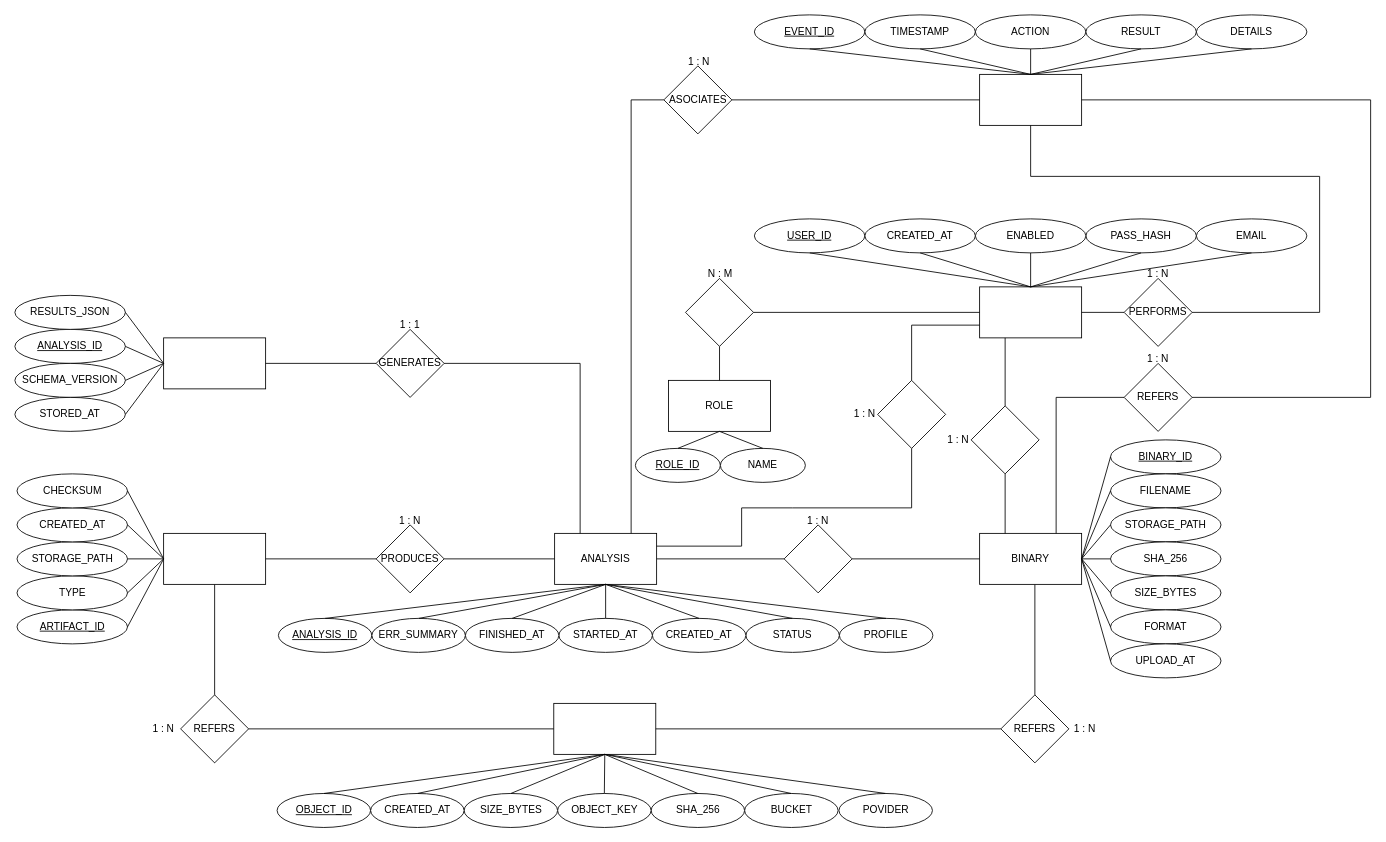
This 1386x842 diagram has some shape labels left out. Each missing label, with the box of its shape:
ANALYSIS_RESULT: (163, 337, 266, 389)
ANALYZES: (783, 524, 852, 593)
ARTIFACT: (163, 533, 266, 584)
ASIGNED: (685, 278, 754, 346)
AUDIT_EVENT: (979, 74, 1082, 125)
LOADS: (970, 405, 1039, 474)
REQUESTS: (877, 380, 946, 448)
STORED_OBJECTS: (553, 703, 656, 754)
USER: (979, 286, 1082, 338)
